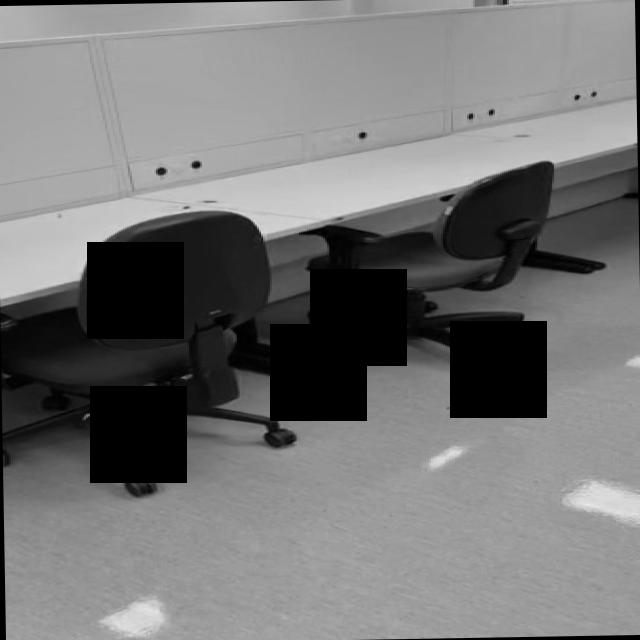cadeira-azul: (0, 207, 297, 497)
